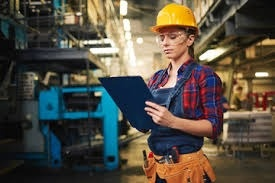helmet: (151, 4, 197, 32)
person with partial safety: (143, 2, 214, 183)
